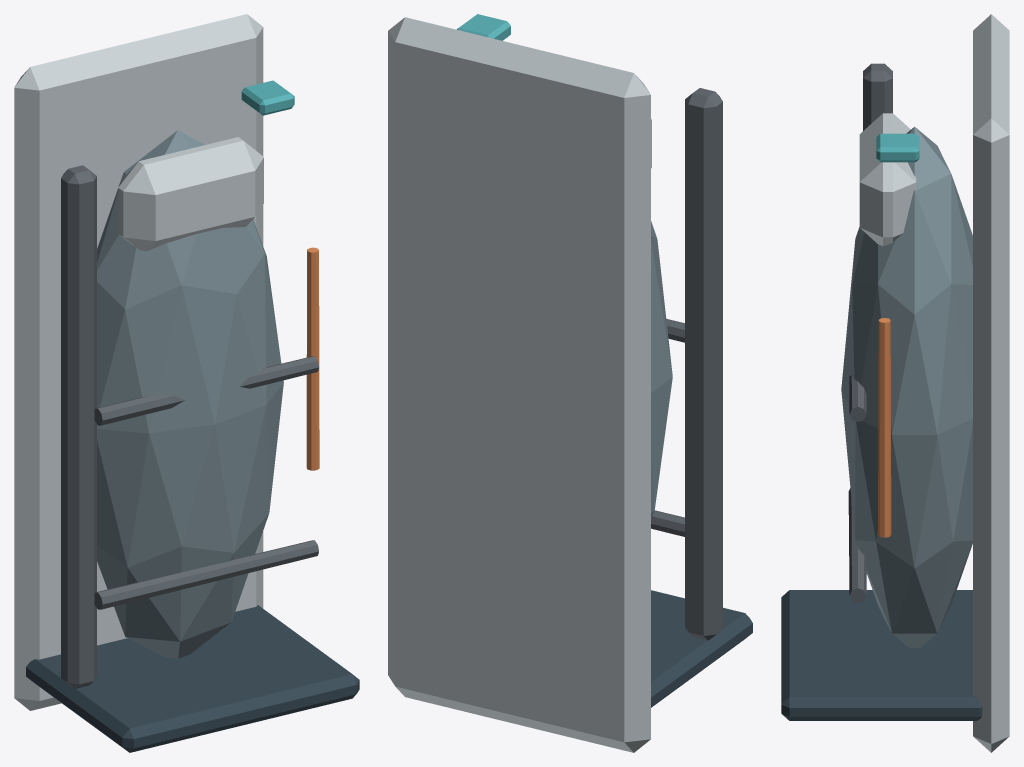
3 views of the same model, side by side, from view 1: azimuth 30°, elevation 25°; view 2: azimuth 150°, elevation 25°; view 3: azimuth 270°, elevation 25° (orthographic). The views are drawn at different scales.
Visible parts, largest first — view 1: RI-003 Restrained wall sleeping berth batched; view 2: RI-003 Restrained wall sleeping berth batched; view 3: RI-003 Restrained wall sleeping berth batched.
Boxes of the visible parts, x1,y1,x2,y2 form: RI-003 Restrained wall sleeping berth batched: [14, 14, 359, 752]; RI-003 Restrained wall sleeping berth batched: [388, 14, 752, 752]; RI-003 Restrained wall sleeping berth batched: [781, 14, 1009, 752].
Bounding box in the file's own units: 0.88 × 2.1 × 0.685.
